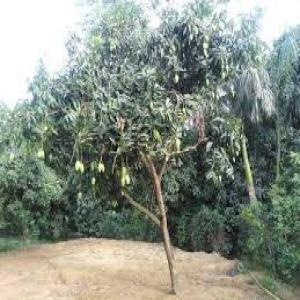Tree: (34, 3, 252, 292)
